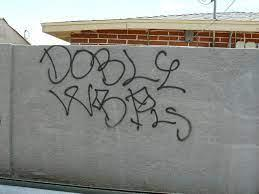graffiti: (42, 44, 201, 140)
